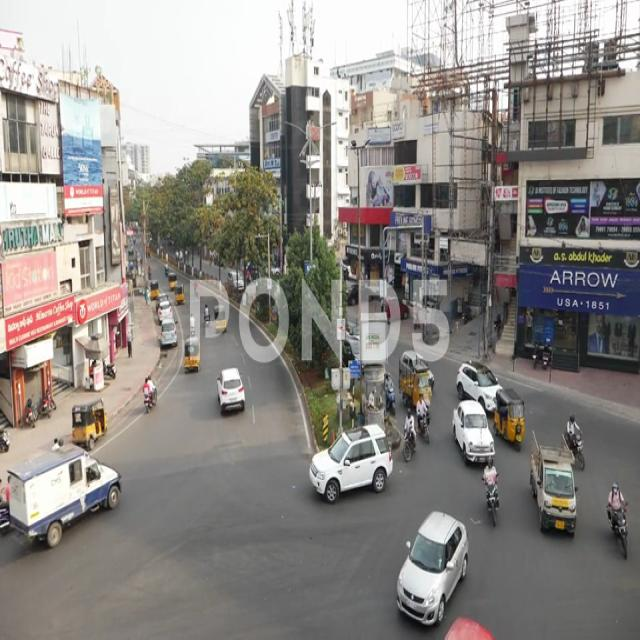cab: (453, 404, 496, 466)
car: (391, 520, 471, 630), (310, 425, 394, 506), (218, 368, 244, 410)
motorbike: (607, 471, 632, 558), (484, 460, 502, 530), (402, 408, 418, 470), (417, 400, 433, 450)
rikshaw: (497, 391, 525, 451)
truck: (8, 468, 126, 546), (535, 444, 578, 545)
